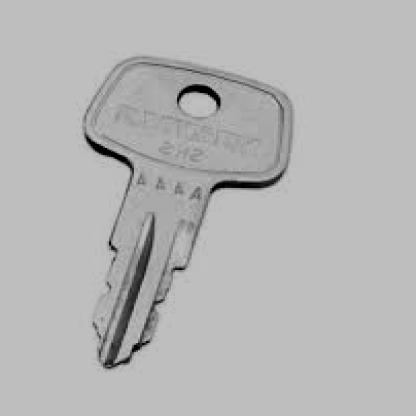key: (82, 55, 297, 370)
